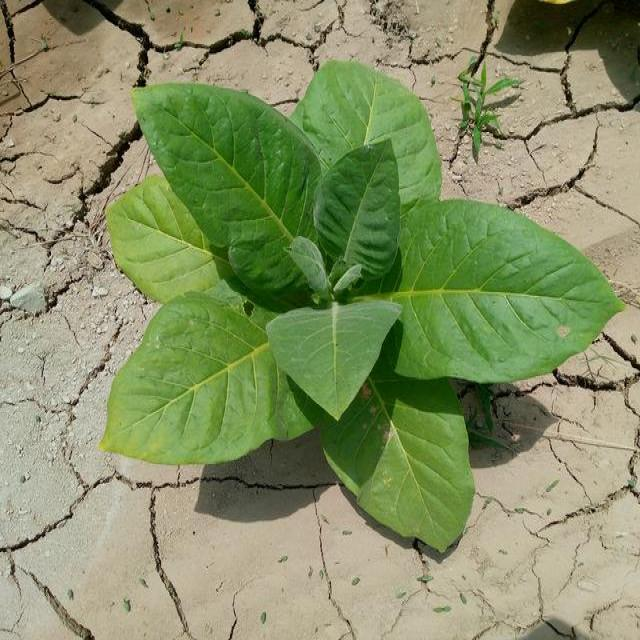crop: (107, 58, 608, 555)
